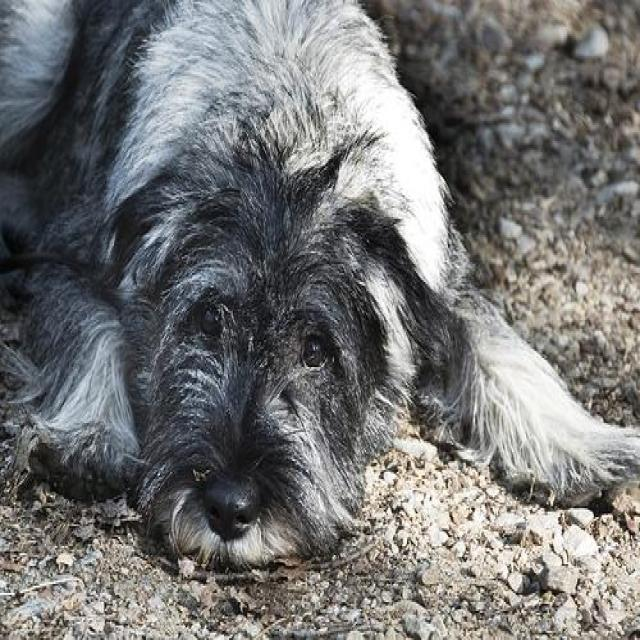standard_schnauzer: (0, 0, 637, 571)
